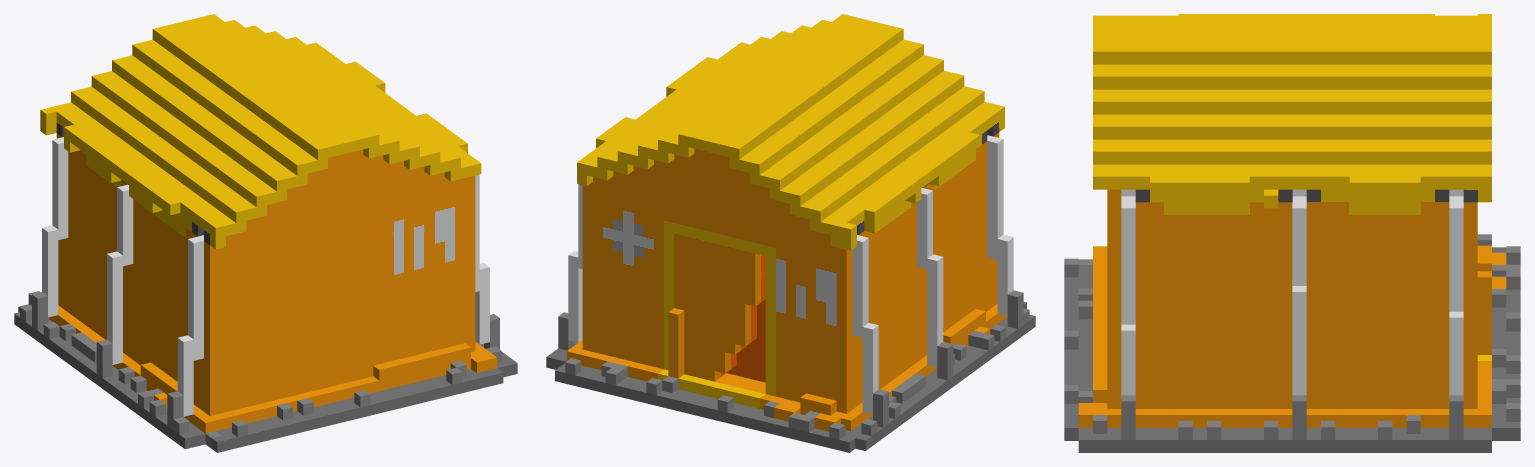
The model's file is obj_house7c.fbx.
The picture shows the model from 3 angles, left to right: view 1: azimuth 30°, elevation 25°; view 2: azimuth 150°, elevation 25°; view 3: azimuth 270°, elevation 25°; orthographic projection. The views are drawn at different scales.
Visible parts, largest first — view 1: obj_house7c; view 2: obj_house7c; view 3: obj_house7c.
Part boxes in pixels (<box>): obj_house7c: <box>14,14,517,452</box>; obj_house7c: <box>546,14,1035,452</box>; obj_house7c: <box>1064,14,1520,452</box>.
Size of the model in its own units: 3.2 by 3.2 by 2.5.
Materials: 1 (1 with a texture image).
